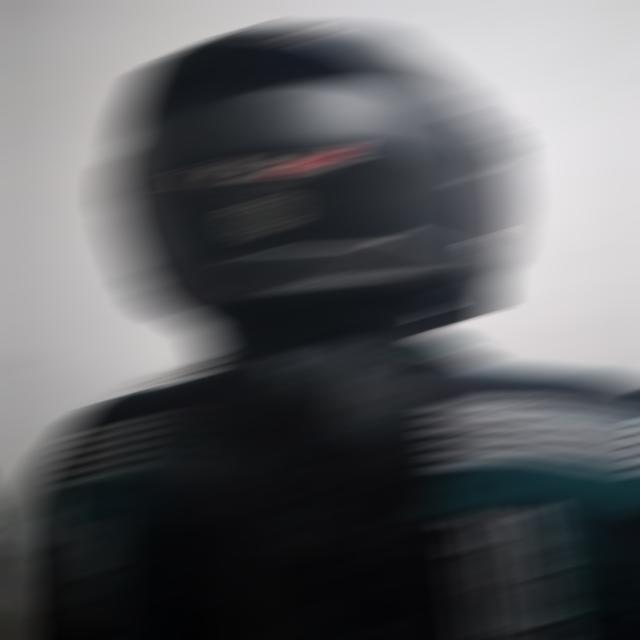With Helmet: (99, 26, 526, 324)
